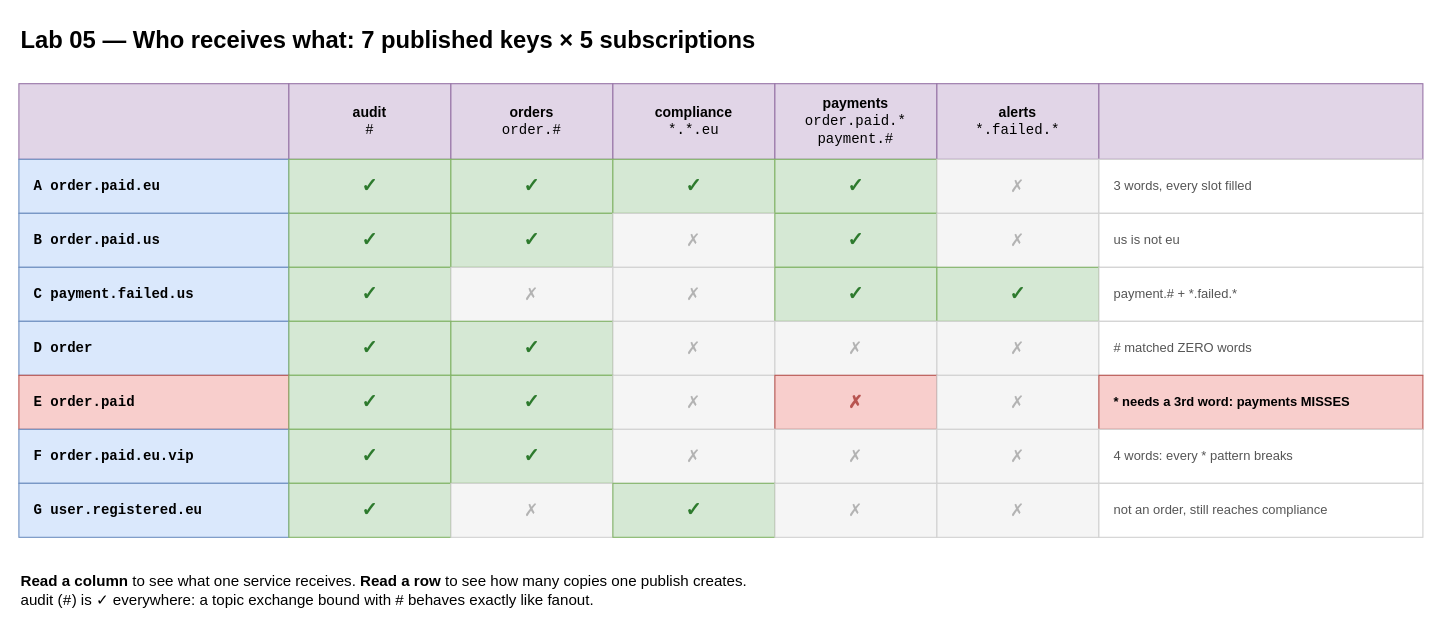
The diagram is 1442 pixels wide and 642 high, and some of its shapes have lost their labels. The box of each missing label's shape, as (x1, y1, x2, y2) in pixels:
published routing key: (18, 83, 289, 159)
why: (1098, 83, 1423, 159)
